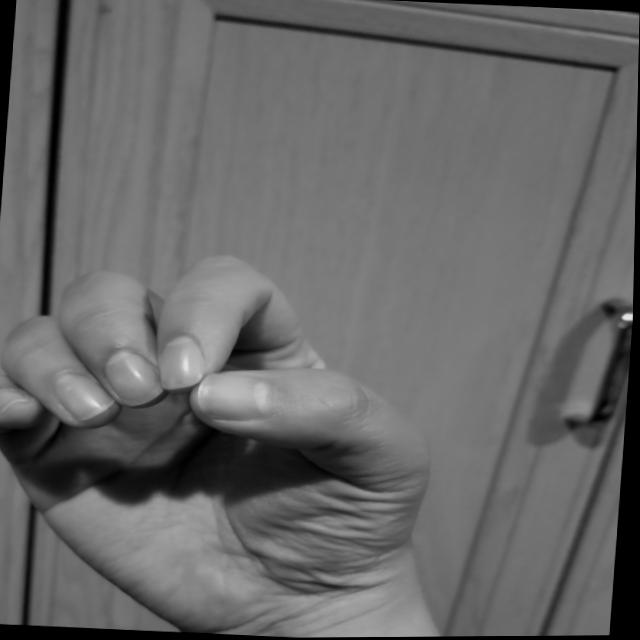O: (0, 235, 463, 639)
